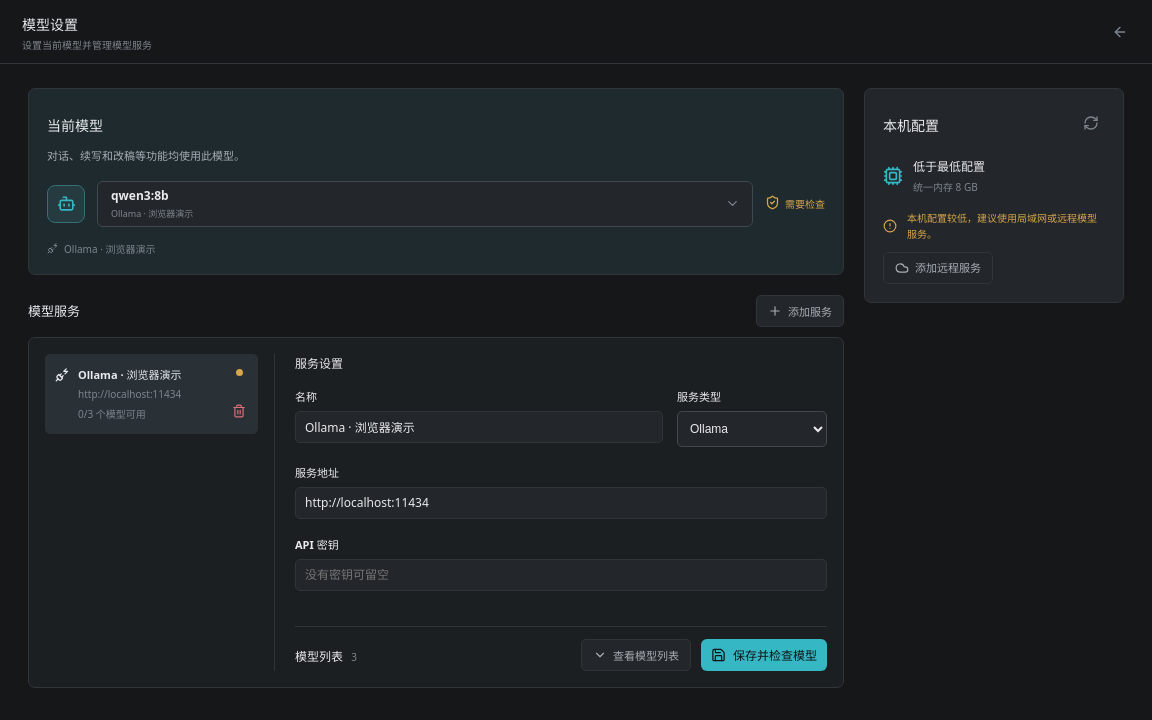
Test: model settings workflow › warns below minimum and opens a remote connection without saving it
Expected: the text "低于最低配置" is shown, [913,157,985,175]
Click the button "添加远程服务" at (938, 268), box [883,252,993,284]
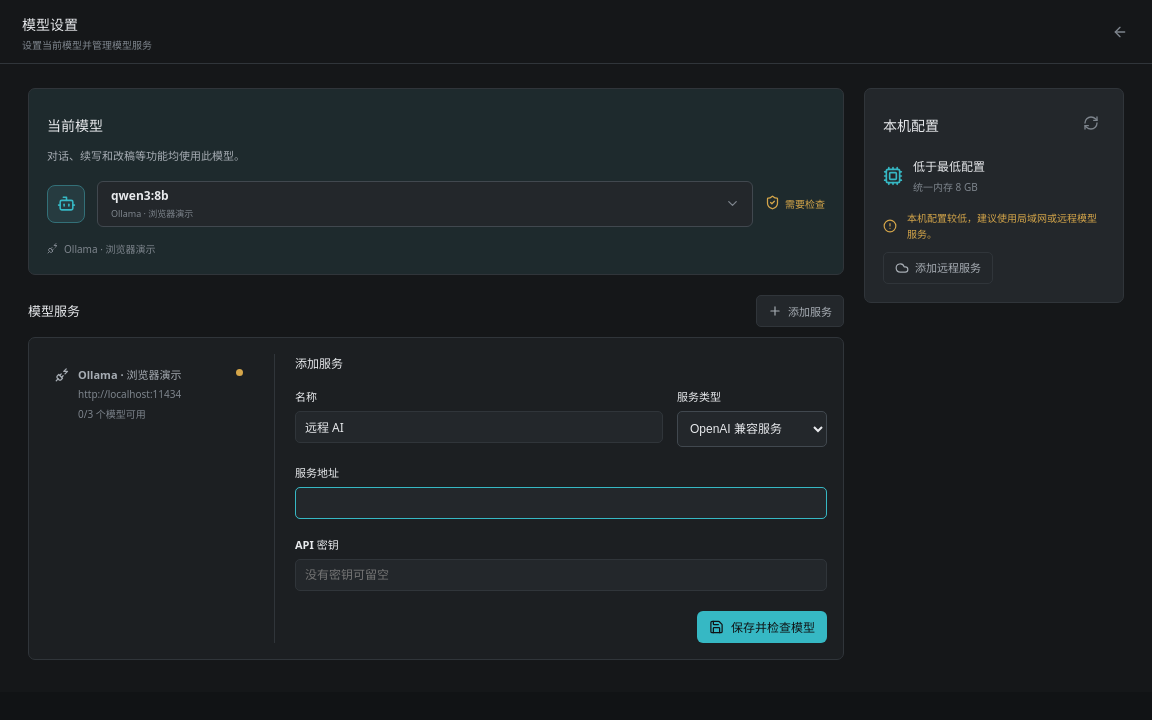
Expected: the dropdown labelled "服务类型" shows "OpenAI 兼容服务", [677,411,827,447]
Expected: the field labelled "服务地址" is empty, [295,487,827,519]
